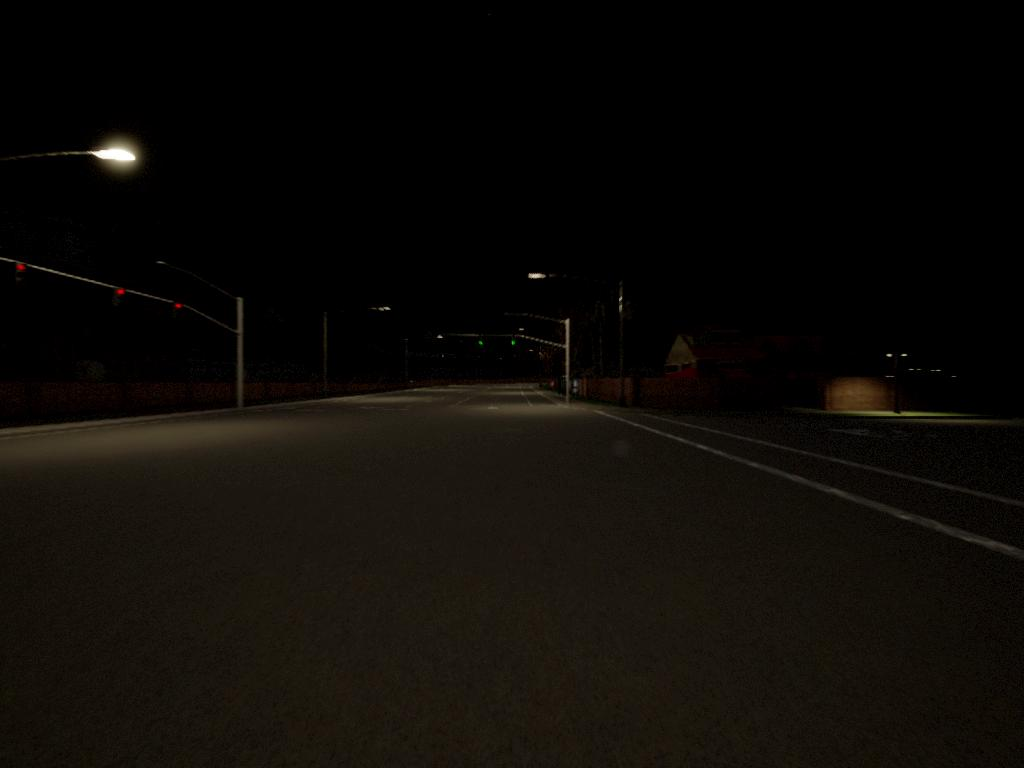traffic_light: (3, 258, 29, 291), (110, 288, 131, 309), (173, 298, 186, 321), (507, 335, 521, 350), (478, 335, 486, 350)
